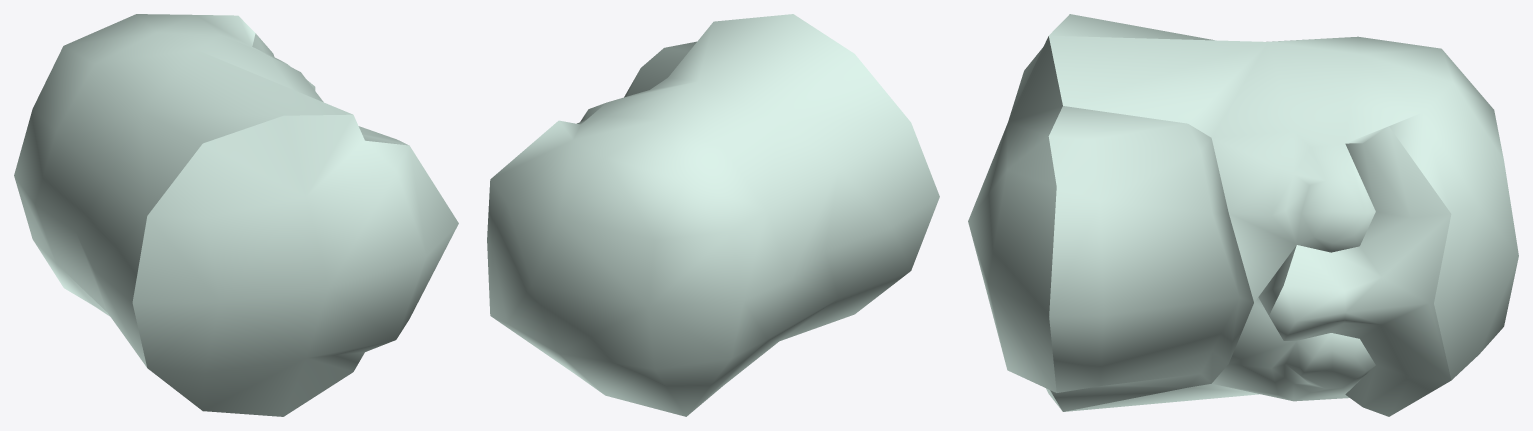
The picture shows the model from 3 angles, left to right: view 1: azimuth 30°, elevation 25°; view 2: azimuth 150°, elevation 25°; view 3: azimuth 270°, elevation 25°; orthographic projection. The views are drawn at different scales.
Visible parts, largest first — view 1: Object24; view 2: Object24; view 3: Object24.
Boxes of the visible parts, x1,y1,x2,y2 form: Object24: [14, 14, 458, 416]; Object24: [487, 14, 939, 416]; Object24: [968, 14, 1518, 416].
Bounding box in the file's own units: 45128 × 38804 × 54074.
